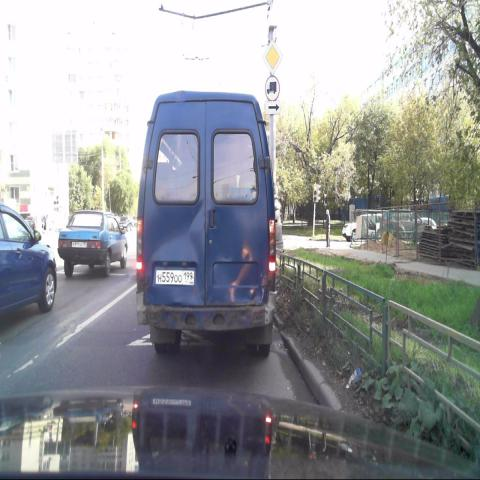3_4_1: (264, 73, 279, 99)
